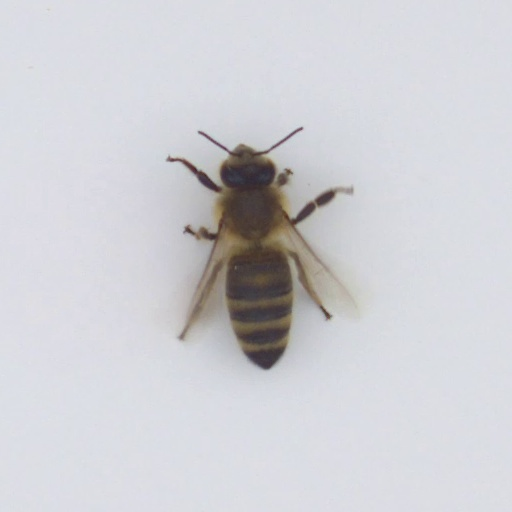Bee: (213, 141, 299, 370)
Thorax: (219, 185, 283, 245)
